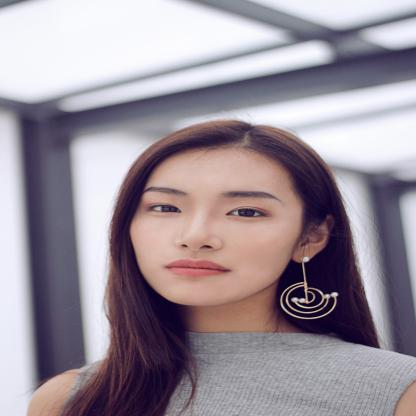Eye: (222, 202, 276, 222), (141, 202, 188, 219)
Mouth: (162, 257, 232, 279)
Nose: (175, 206, 223, 253)
